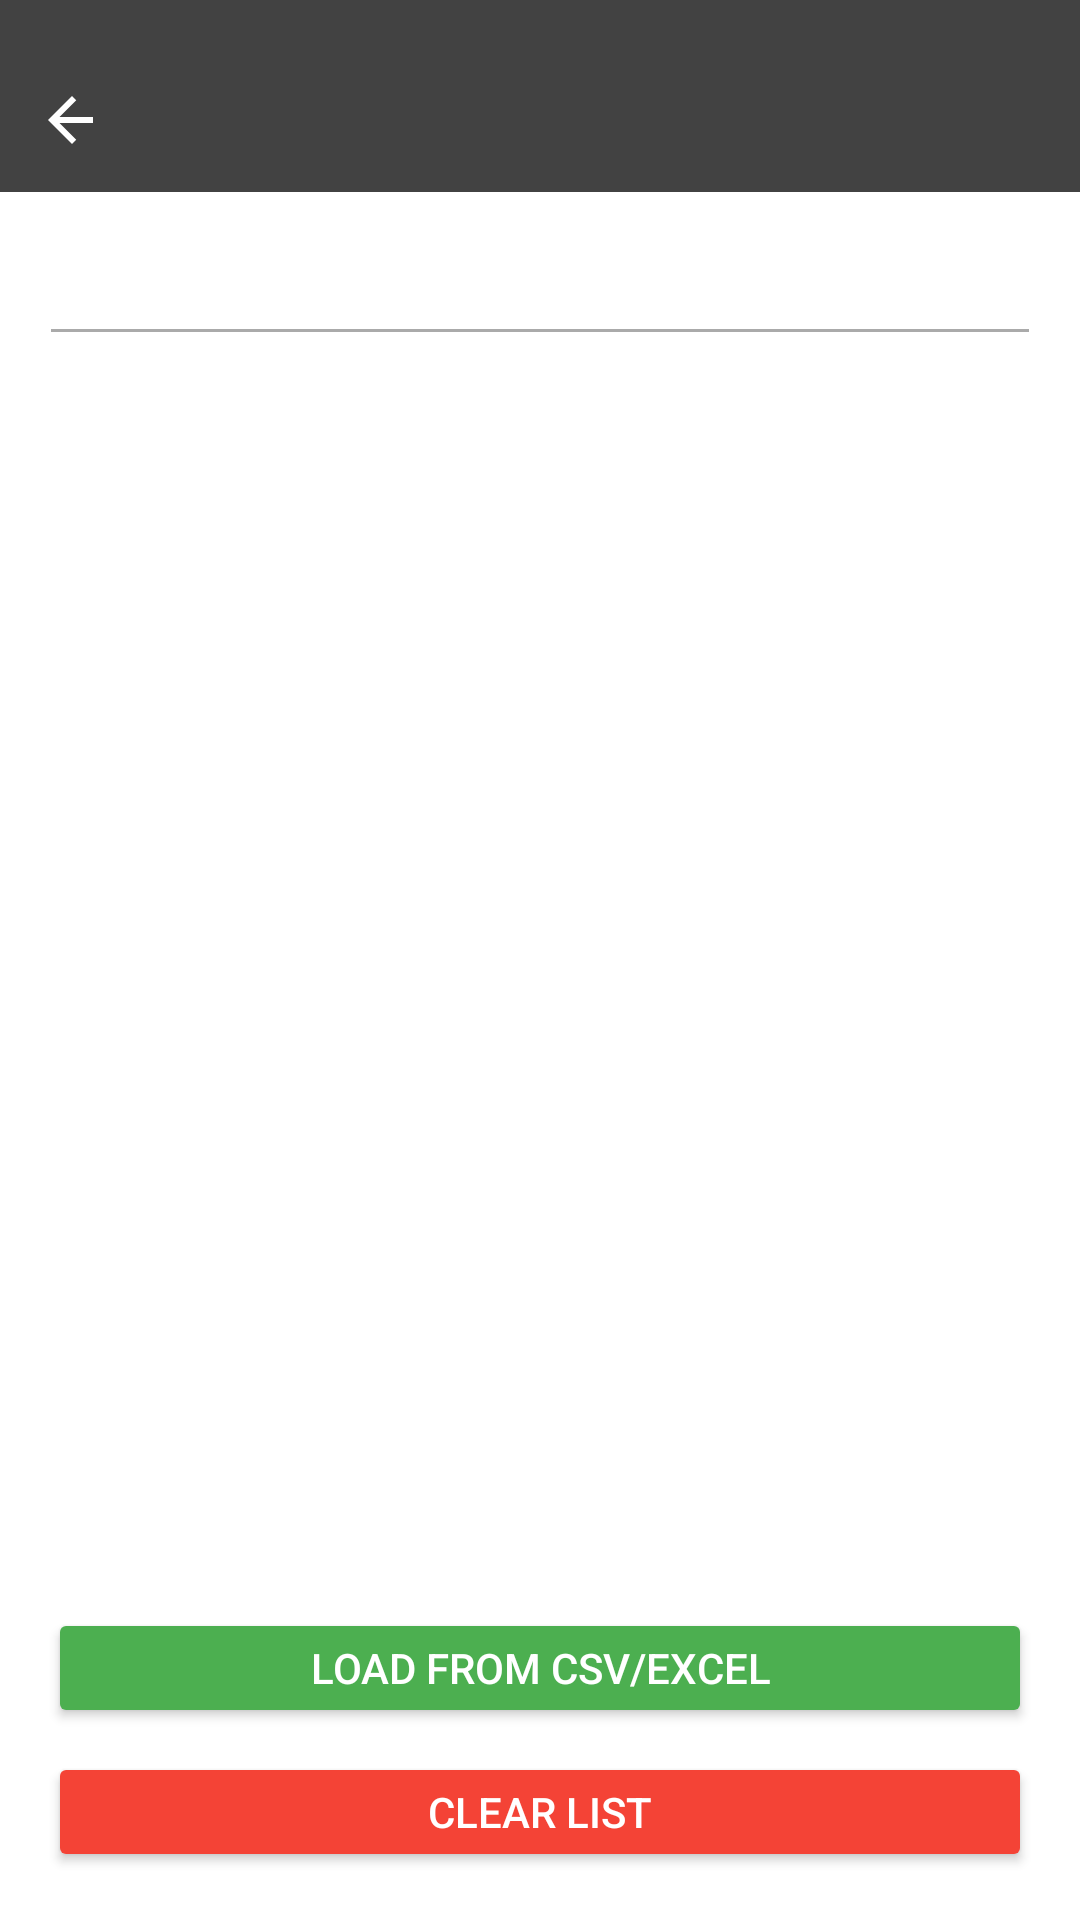

Screen size 1080 x 1920. Icon name, then its box in pixels as box(x1, y1, x2, y2):
Back: box(48, 96, 93, 144)
